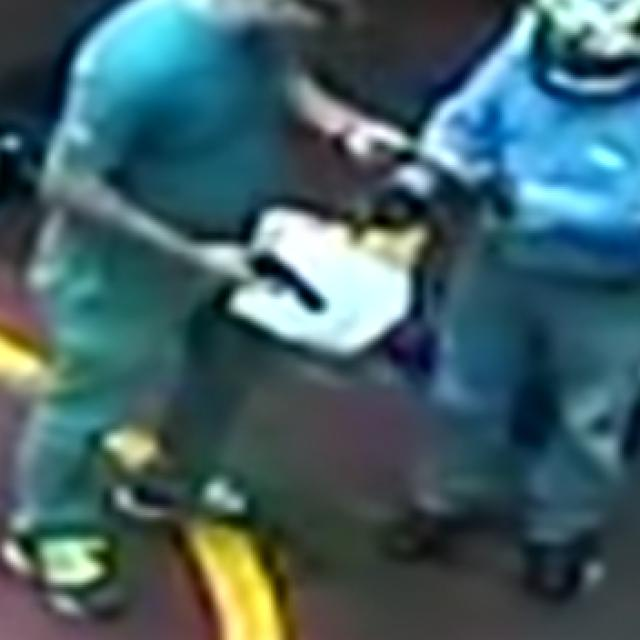FPistol: (248, 240, 327, 320)
